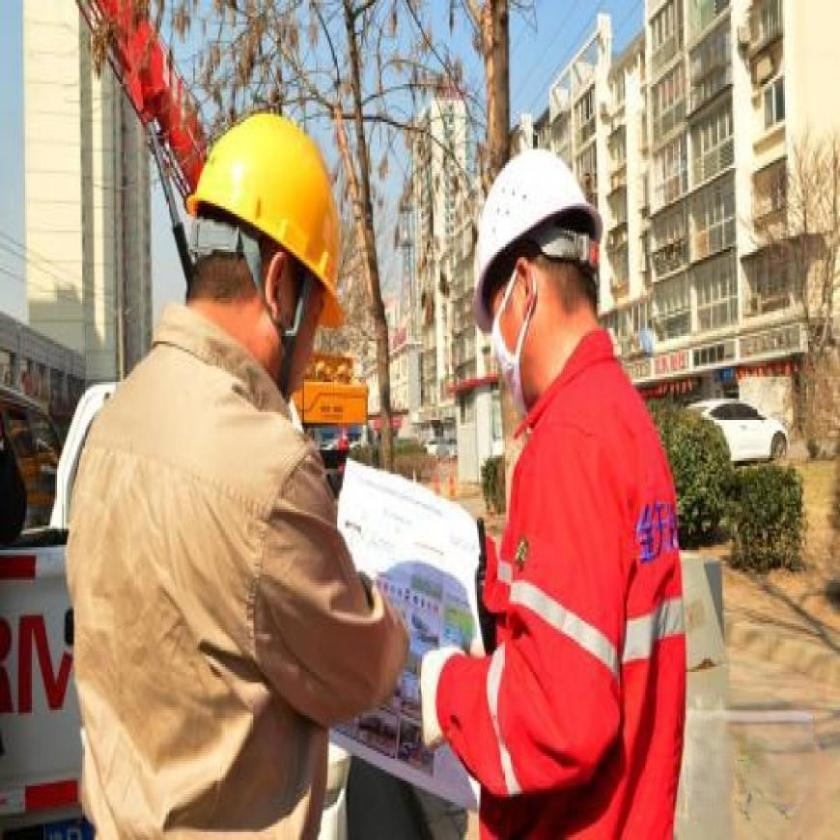Con_casco: (173, 105, 355, 414), (469, 146, 600, 398)
